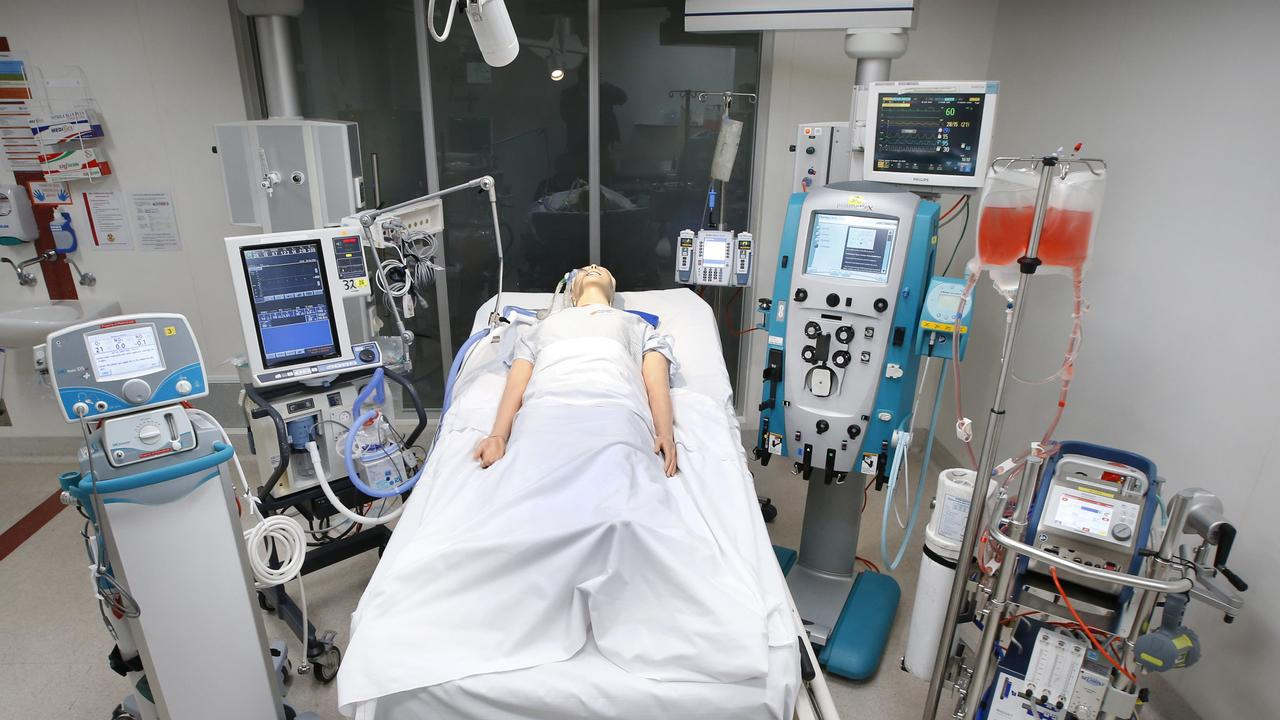bedside_monitor: (862, 80, 1001, 188), (794, 205, 905, 287), (79, 326, 184, 394)
breathing_tube: (310, 270, 602, 526)
hospital_bed: (336, 289, 840, 720)
infusion_pump: (676, 226, 762, 289)
iv_pole: (967, 142, 1107, 471), (698, 90, 758, 231)
patient: (473, 264, 695, 478)
ventilator: (237, 237, 402, 534)
